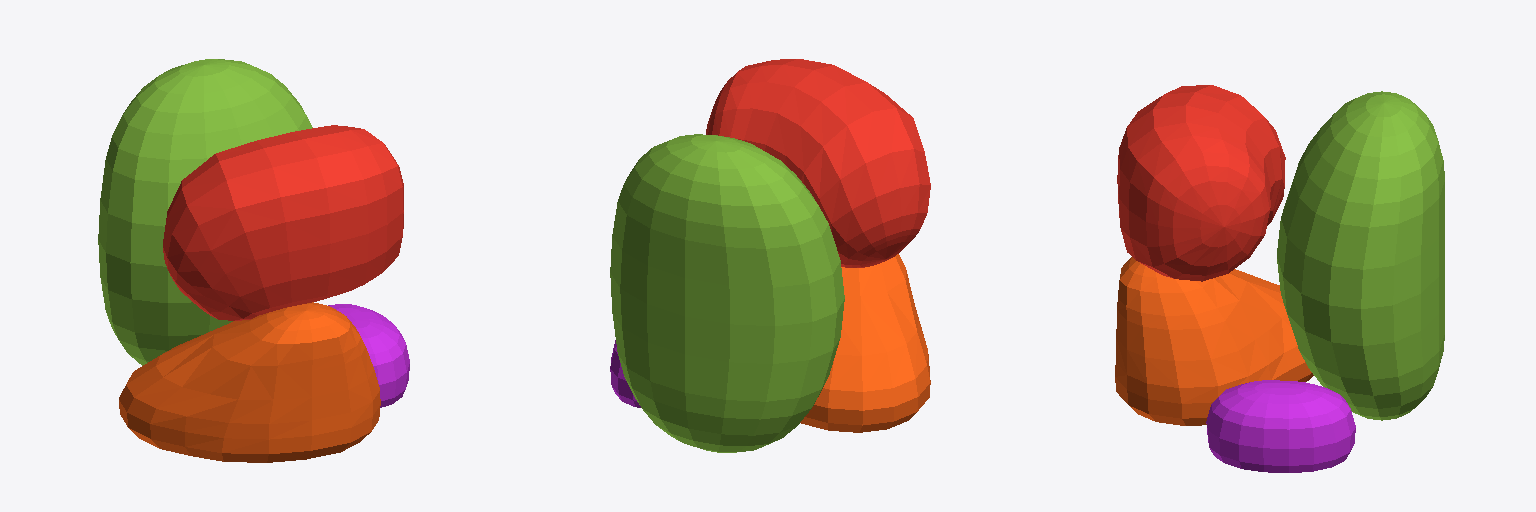
3 views of the same model, side by side, from view 1: azimuth 30°, elevation 25°; view 2: azimuth 150°, elevation 25°; view 3: azimuth 270°, elevation 25° (orthographic).
Parts seen in each view (by area): view 1: NoxiousSlimeSlimeMesh_Noxious_Slimes_Slime; view 2: NoxiousSlimeSlimeMesh_Noxious_Slimes_Slime; view 3: NoxiousSlimeSlimeMesh_Noxious_Slimes_Slime.
Boxes of the visible parts, box(x1,y1,x2,y2) form: NoxiousSlimeSlimeMesh_Noxious_Slimes_Slime: box(98, 59, 409, 462); NoxiousSlimeSlimeMesh_Noxious_Slimes_Slime: box(610, 59, 930, 452); NoxiousSlimeSlimeMesh_Noxious_Slimes_Slime: box(1115, 85, 1444, 472).
Bounding box in the file's own units: 1.5 × 1.5 × 1.5.
Materials: 2 (1 with a texture image).